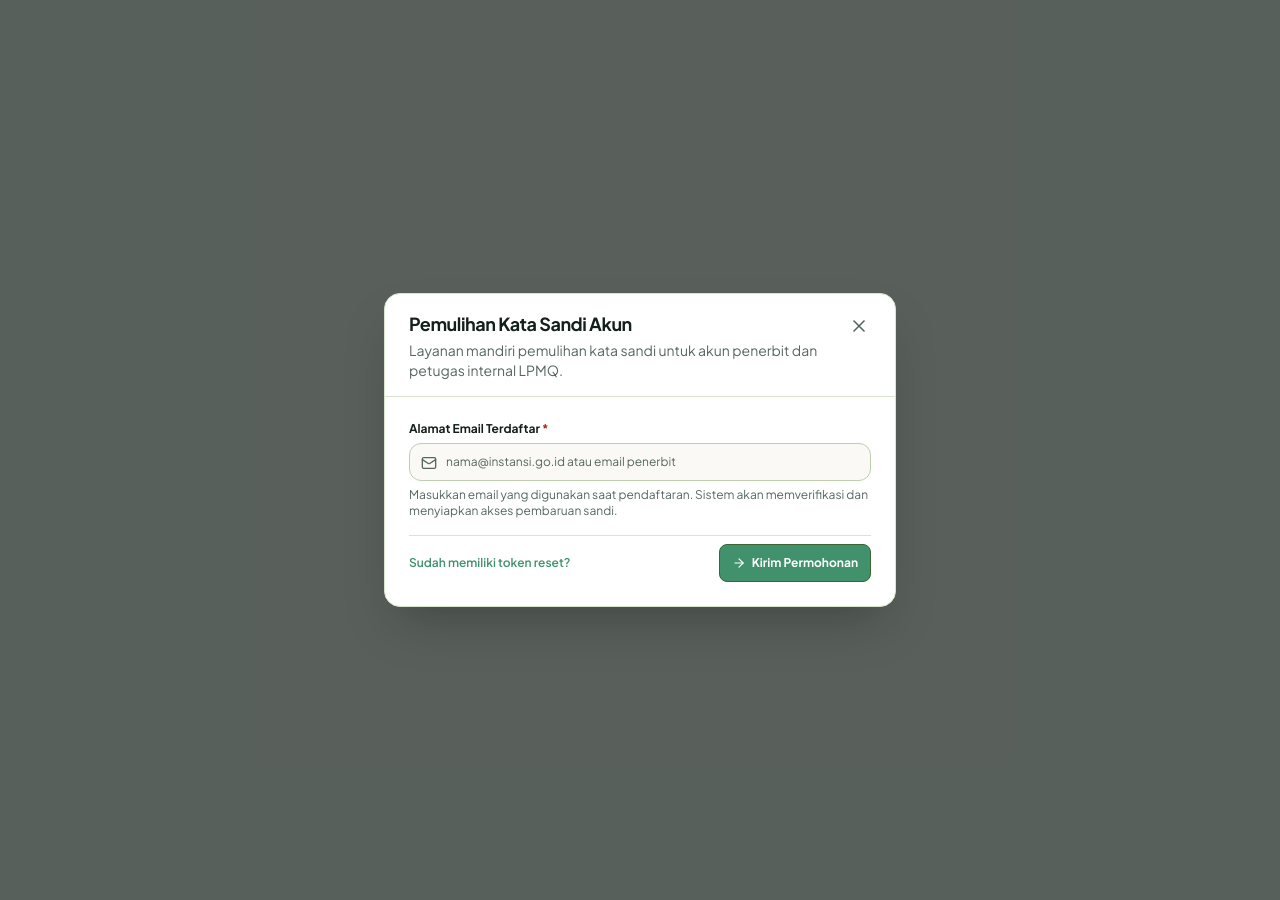
ForgotPasswordModal Security & UX › renders modal when open and submits forgot password without leaking token or auto-advancing
Expected: the heading "Pemulihan Kata Sandi Akun" is shown, [409, 312, 632, 335]
Type "user@kemenag.go.id" into the field labelled "Alamat Email Terdaftar *".
click(640, 462); type("user@kemenag.go.id")  # box [409, 443, 871, 481]
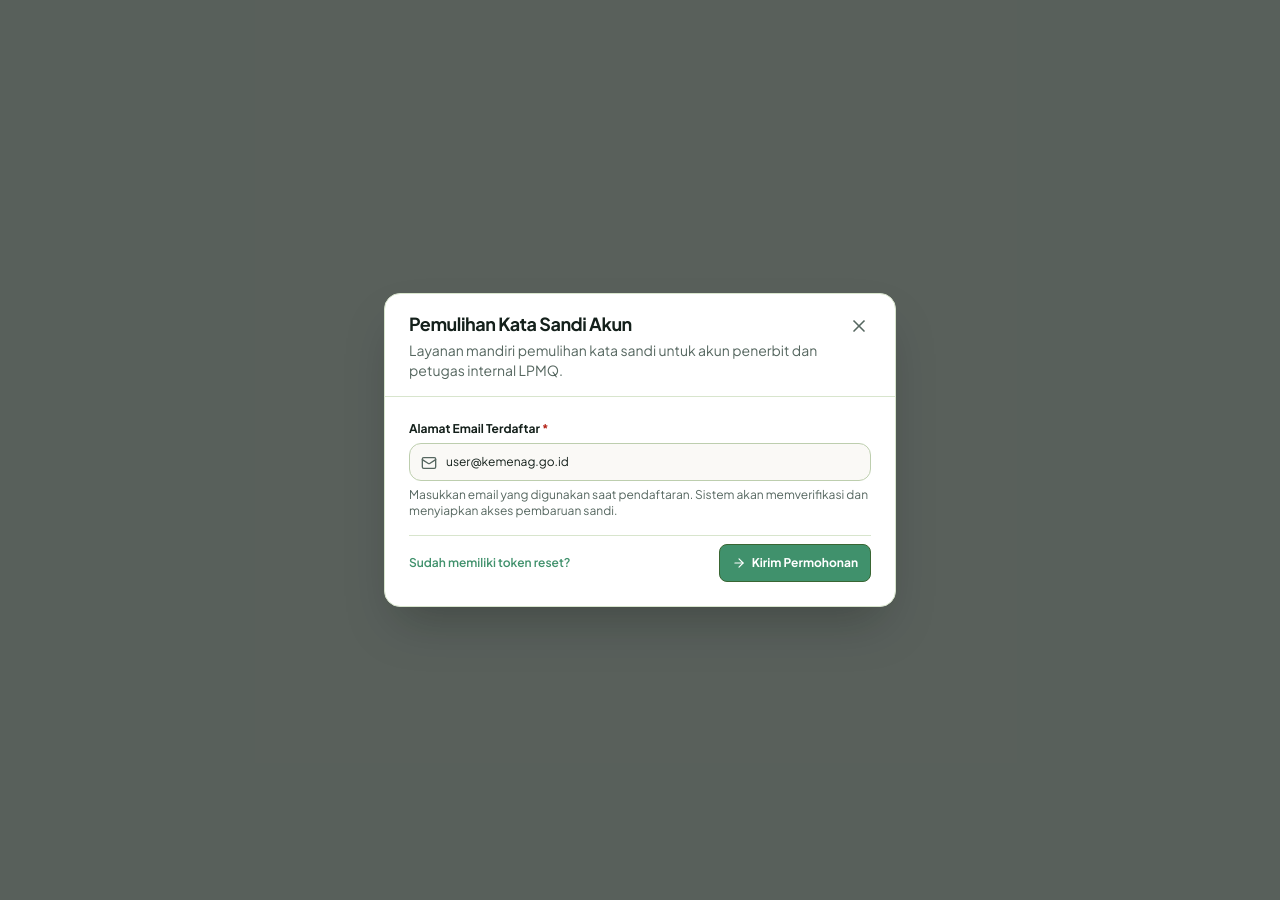
Click the button "Kirim Permohonan".
click(795, 563)  # box [719, 544, 871, 582]
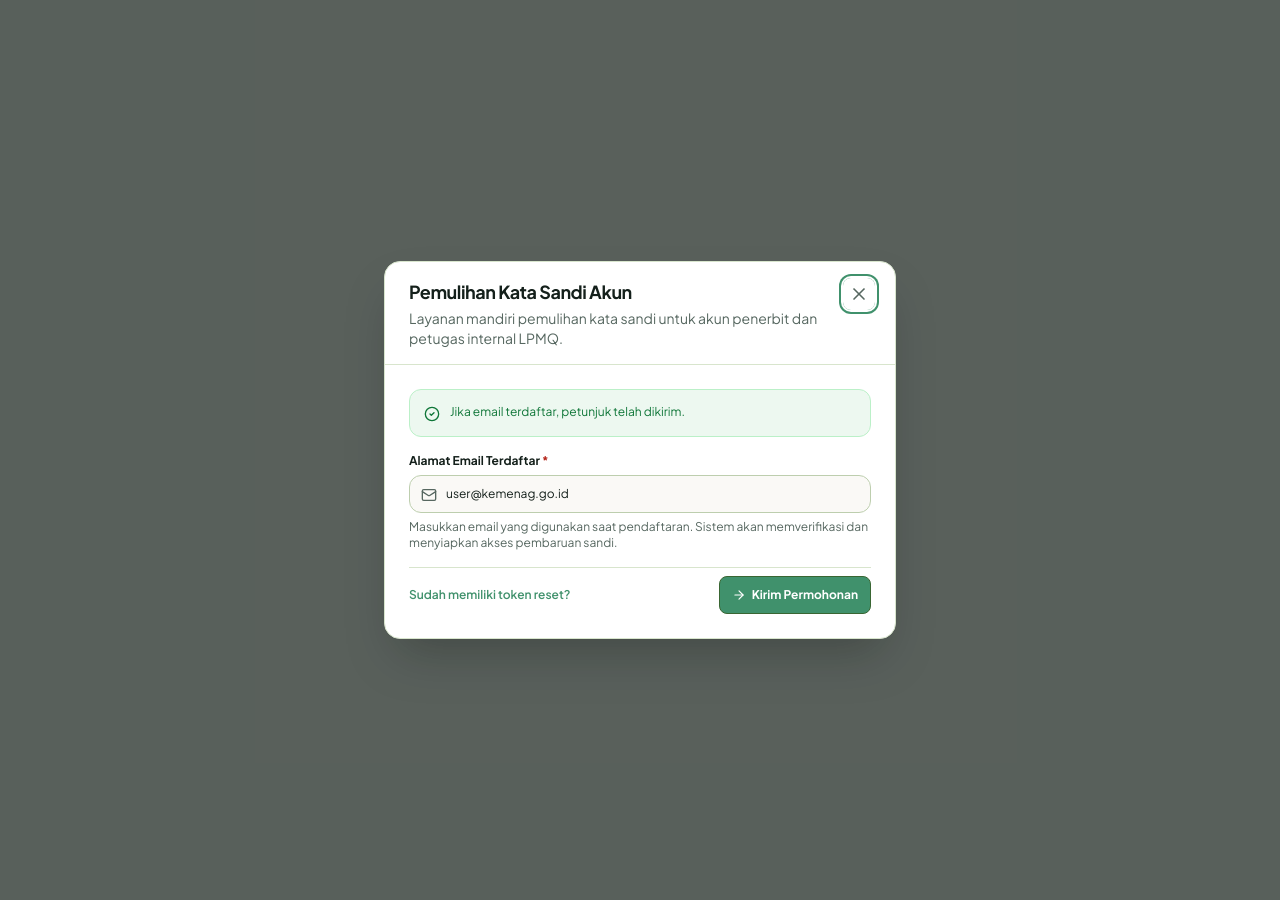
Expected: the text "Jika email terdaftar, petunjuk telah dikirim." is shown, [450, 404, 685, 420]
